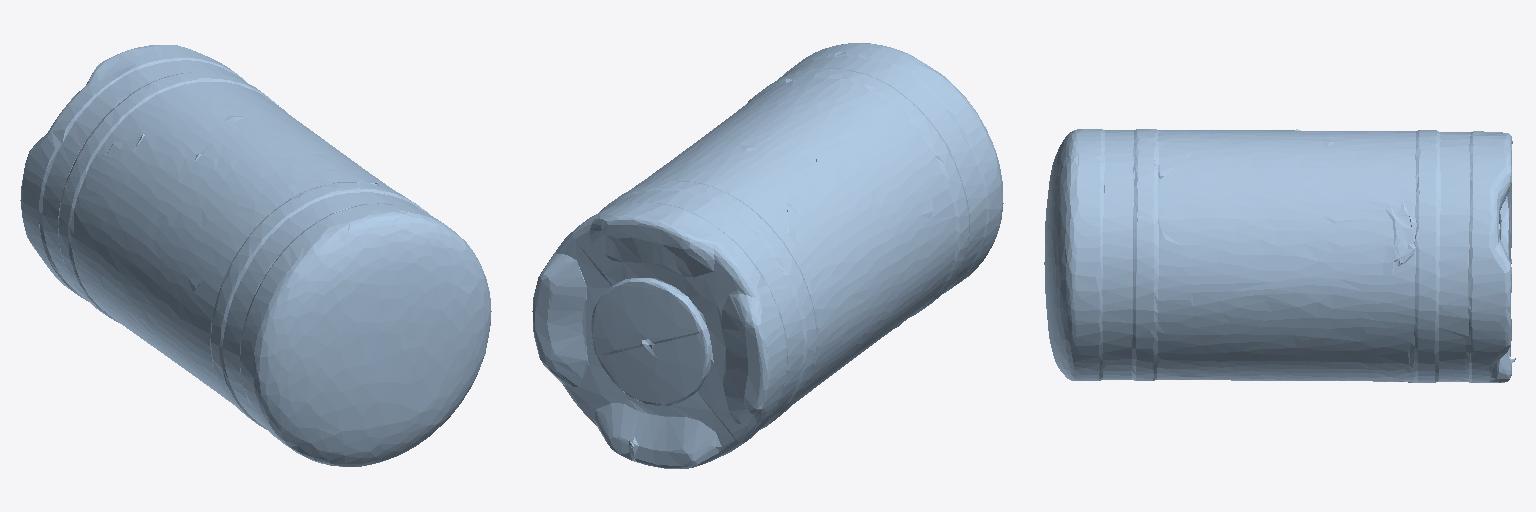
URDF robot description (bucket010):
<?xml version="1.0" ?>
<robot name="bucket010">
  <dynamics damping="0.5" friction="0.9"/>
  <link name="bucket010_link">
    <inertial>
      <mass value="1.0"/>
      <origin xyz="0 0 0"/>
      <inertia ixx="0.01" ixy="0" ixz="0" iyy="0.01" iyz="0" izz="0.01"/>
    </inertial>
    <visual>
      <origin rpy="0 0 0" xyz="0 0 0"/>
      <geometry>
        <mesh filename="bucket010.obj" scale="1.0 1.0 1.0"/>
      </geometry>
      <material name="mat">
        <color rgba="0.7 0.8 0.9 0.7"/>
      </material>
    </visual>
    <collision name="bucket010">
      <origin rpy="0 0 0" xyz="0 0 0"/>
      <geometry>
        <mesh filename="bucket010.obj" scale="1.0 1.0 1.0"/>
      </geometry>
    </collision>
  </link>
</robot>

--- Facts derived from the render (not from the file) ---
Views: 3 orthographic renders of the robot side by side, from view 1: azimuth 30°, elevation 25°; view 2: azimuth 150°, elevation 25°; view 3: azimuth 270°, elevation 25°.
Robot: bucket010 — 1 links, 0 joints (none); root link bucket010_link; default pose: every joint at zero.
Visible links, largest first — view 1: bucket010_link; view 2: bucket010_link; view 3: bucket010_link.
Boxes of the visible links, <box> form: bucket010_link: <box>20,45,491,466</box>; bucket010_link: <box>532,43,1003,468</box>; bucket010_link: <box>1044,129,1515,382</box>.
Bounding box of the posed robot: 0.401 × 0.7417 × 0.4034 m (x, y, z).
Meshes: 1 distinct files referenced, 1 mesh visuals loaded (1 OBJ).
